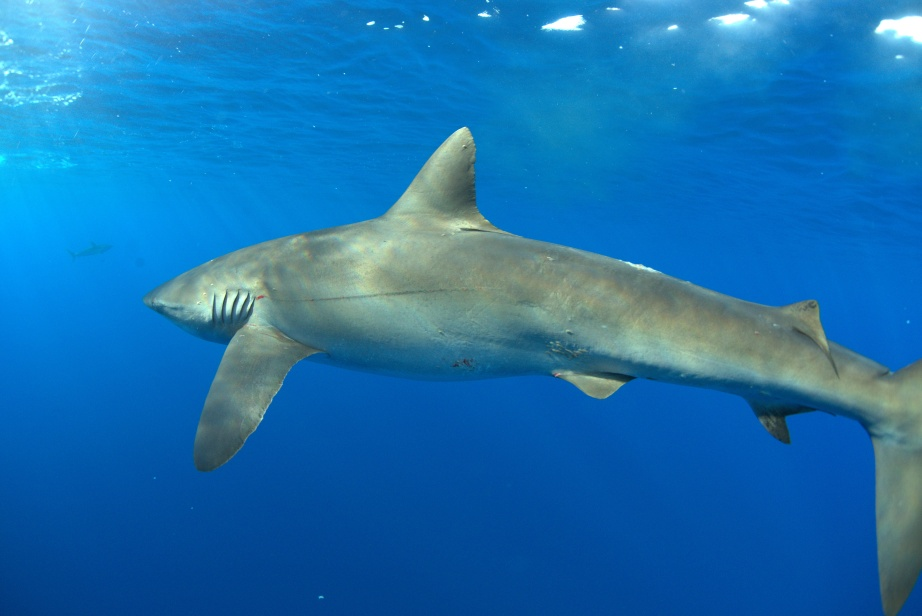Sedoso: (126, 119, 922, 615)
